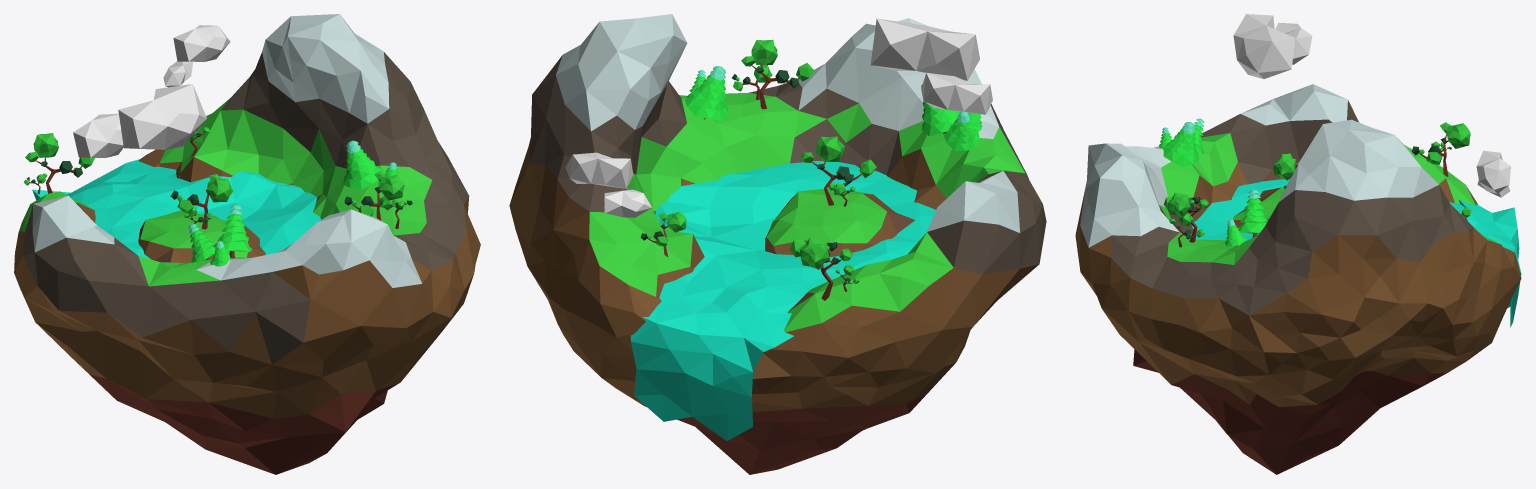
File: floatingIsland.glb
3 views of the same model, side by side, from view 1: azimuth 30°, elevation 25°; view 2: azimuth 150°, elevation 25°; view 3: azimuth 270°, elevation 25° (orthographic). The views are drawn at different scales.
Visible parts, largest first — view 1: Planet_Maybe, Water, Icosphere, Plane004_1, Plane001_1, Cube008_1, Cube001_1, Cube004_1, Plane003_1; view 2: Planet_Maybe, Water, Icosphere, Plane004_1, Cube008_1, Cube001_1, Cube004_1, Plane001_1, Plane003_1; view 3: Planet_Maybe, Icosphere, Water, Plane001_1, Cube008_1, Plane004_1, Cube004_1.
Boxes of the visible parts, box(x1,y1,x2,y2) form: Planet_Maybe: box(14, 14, 480, 474); Water: box(32, 159, 320, 259); Icosphere: box(73, 25, 230, 157); Plane004_1: box(343, 148, 381, 189); Plane001_1: box(213, 214, 252, 251); Cube008_1: box(25, 133, 94, 171); Cube001_1: box(177, 174, 233, 213); Cube004_1: box(352, 170, 404, 216); Plane003_1: box(190, 230, 215, 262); Planet_Maybe: box(509, 14, 1046, 474); Water: box(630, 161, 935, 440); Icosphere: box(565, 18, 992, 217); Plane004_1: box(684, 74, 728, 121); Cube008_1: box(790, 237, 852, 269); Cube001_1: box(800, 136, 876, 177); Cube004_1: box(741, 39, 814, 81); Plane001_1: box(922, 101, 960, 136); Plane003_1: box(944, 118, 979, 150); Planet_Maybe: box(1075, 84, 1521, 474); Icosphere: box(1233, 14, 1510, 197); Water: box(1191, 179, 1521, 327); Plane001_1: box(1163, 129, 1199, 167); Cube008_1: box(1419, 122, 1470, 164); Plane004_1: box(1238, 198, 1267, 232); Cube004_1: box(1163, 192, 1208, 216).
Bounding box in the file's own units: 9.43 × 8.88 × 9.42.
